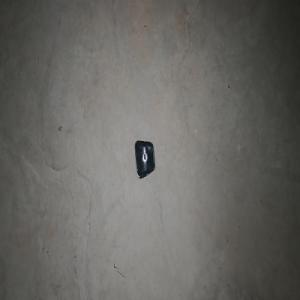LuggagePart: (134, 139, 155, 179)
